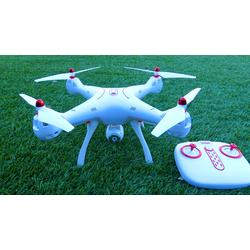drone: (17, 65, 203, 168)
